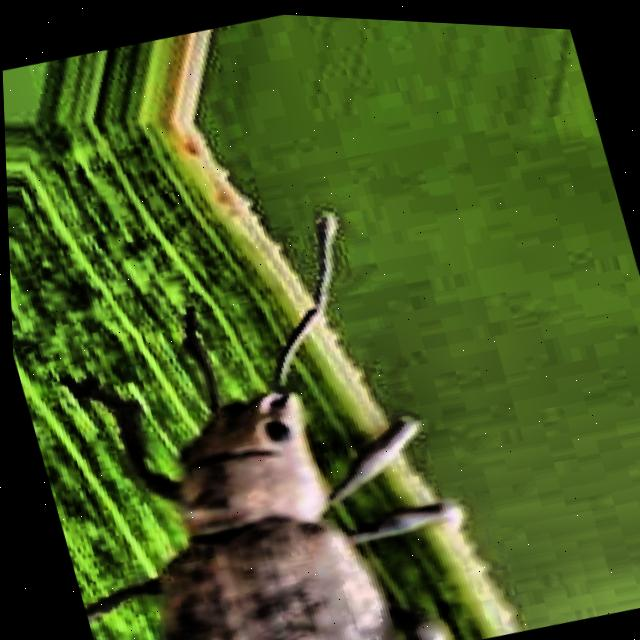Stink bug: (26, 230, 460, 640)
